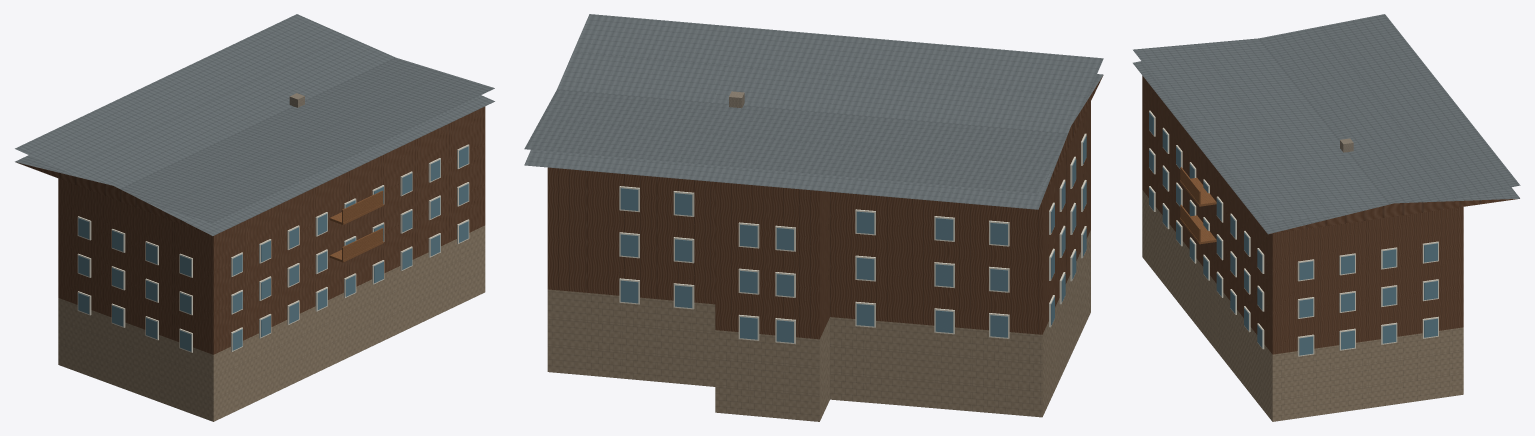
Rendered from core_0134.gltf.
3 renders of one model, left to right at view 1: azimuth 30°, elevation 25°; view 2: azimuth 150°, elevation 25°; view 3: azimuth 270°, elevation 25°, orthographic. The views are drawn at different scales.
Visible parts, largest first — view 1: core_0134; view 2: core_0134; view 3: core_0134.
Part boxes in pixels (left/top/right/bottom): core_0134: left=15, top=14, right=494, bottom=421; core_0134: left=524, top=14, right=1103, bottom=421; core_0134: left=1133, top=14, right=1520, bottom=421.
Bounding box in the file's own units: 33.65 × 15.65 × 26.64.
7 materials, 7 textured.
